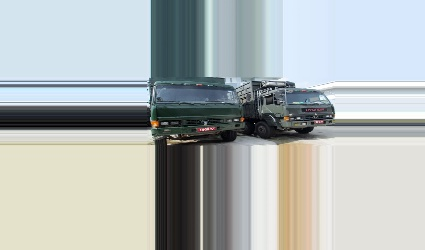plate: (195, 125, 216, 133), (313, 119, 325, 126)
